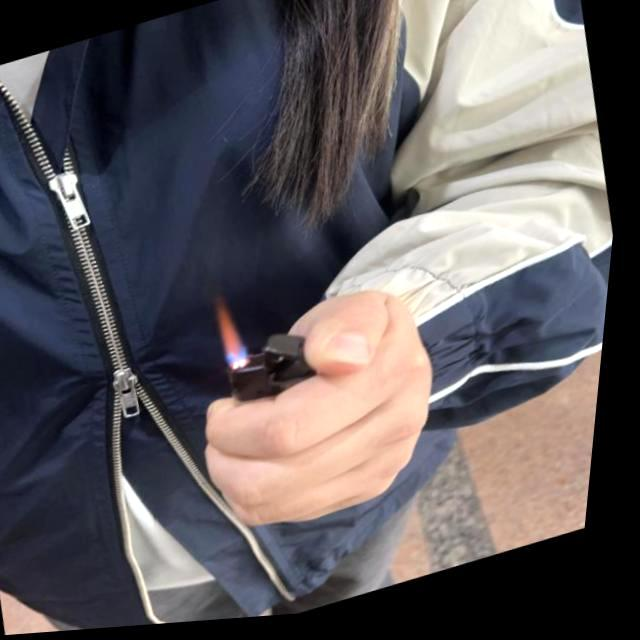fire: (210, 291, 264, 377)
